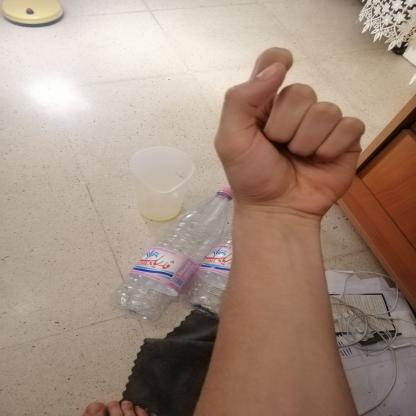FAA: (202, 38, 381, 226)
